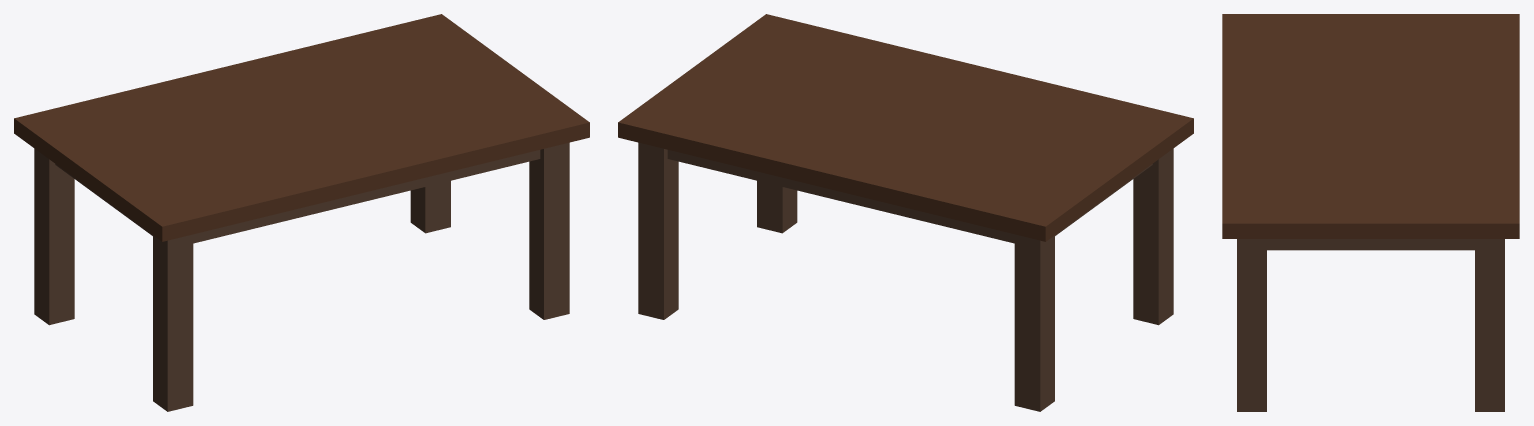
File: Table_01.gltf
The picture shows the model from 3 angles, left to right: view 1: azimuth 30°, elevation 25°; view 2: azimuth 150°, elevation 25°; view 3: azimuth 270°, elevation 25°; orthographic projection.
Visible parts, largest first — view 1: SM_Table_1B_722_StaticMeshComponent0; view 2: SM_Table_1B_722_StaticMeshComponent0; view 3: SM_Table_1B_722_StaticMeshComponent0.
Boxes of the visible parts, x1=… form: SM_Table_1B_722_StaticMeshComponent0: x1=14, y1=14, x2=589, y2=411; SM_Table_1B_722_StaticMeshComponent0: x1=618, y1=14, x2=1193, y2=411; SM_Table_1B_722_StaticMeshComponent0: x1=1222, y1=14, x2=1519, y2=411.
Bounding box in the file's own units: 2.5 × 1.08 × 1.5.
1 material, 1 textured.
